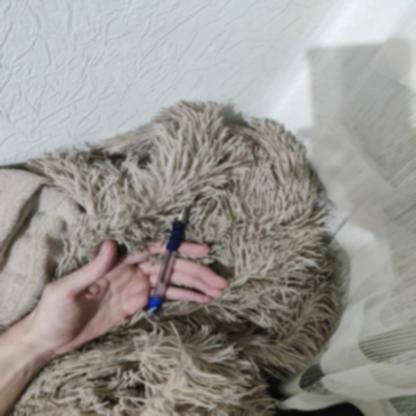pen: (149, 204, 190, 327)
